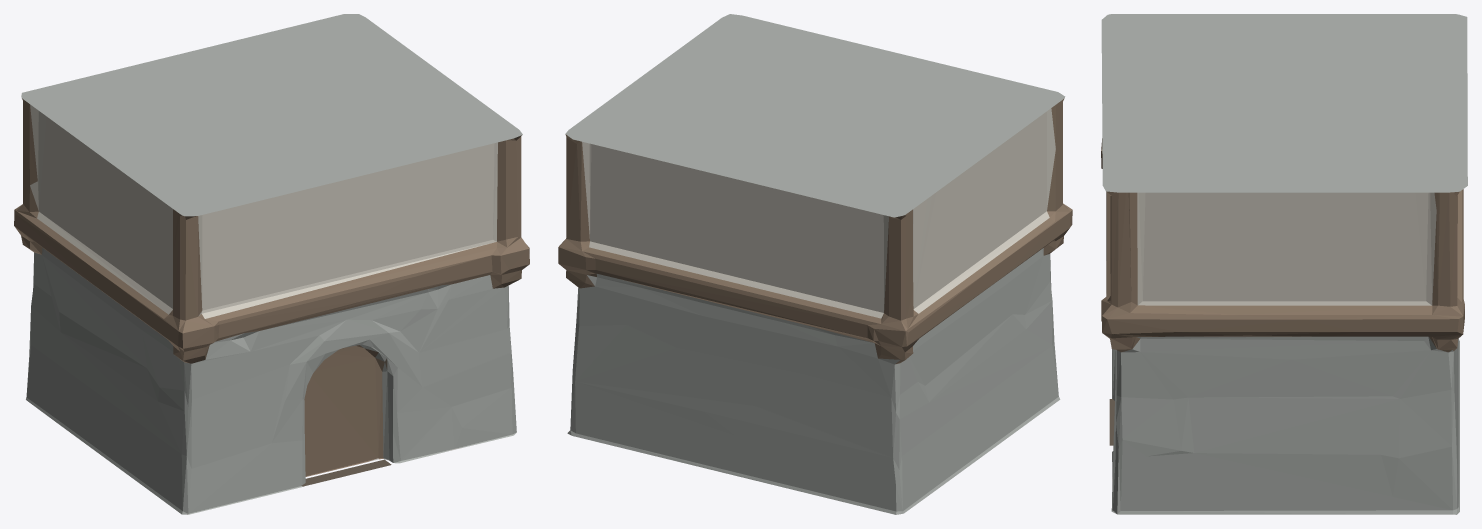
The model's file is etape-1.glb.
The picture shows the model from 3 angles, left to right: view 1: azimuth 30°, elevation 25°; view 2: azimuth 150°, elevation 25°; view 3: azimuth 270°, elevation 25°; orthographic projection. The views are drawn at different scales.
Visible parts, largest first — view 1: geometry_0; view 2: geometry_0; view 3: geometry_0.
Boxes of the visible parts, x1,y1,x2,y2 form: geometry_0: [14, 14, 529, 514]; geometry_0: [558, 14, 1072, 514]; geometry_0: [1101, 14, 1467, 514].
Bounding box in the file's own units: 0.7402 × 0.6072 × 0.6238.
